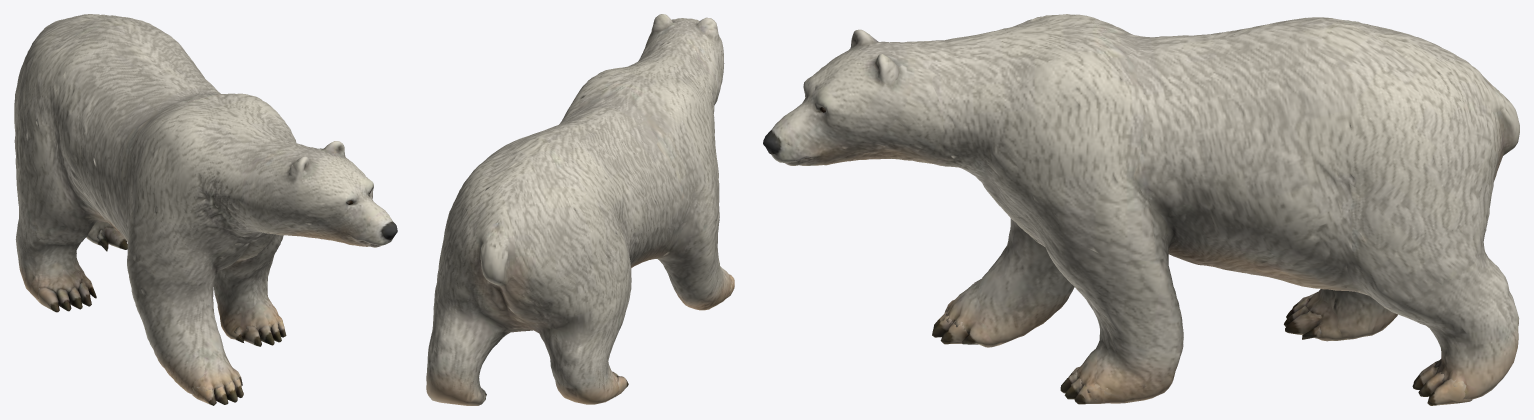
Rendered from MZ4250 - Polar Bear.glb.
The picture shows the model from 3 angles, left to right: view 1: azimuth 30°, elevation 25°; view 2: azimuth 150°, elevation 25°; view 3: azimuth 270°, elevation 25°; orthographic projection. The views are drawn at different scales.
Parts seen in each view (by area): view 1: Polar Bear.001; view 2: Polar Bear.001; view 3: Polar Bear.001.
Boxes of the visible parts, x1,y1,x2,y2 form: Polar Bear.001: (14, 14, 397, 405); Polar Bear.001: (426, 14, 734, 405); Polar Bear.001: (763, 14, 1519, 405).
Bounding box in the file's own units: 0.5749 × 0.8507 × 1.72.
1 material, 1 textured.
